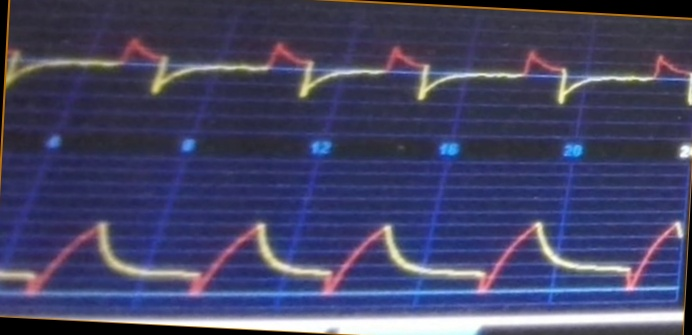Flow: (9, 29, 688, 119)
Leakage Volume: (3, 204, 682, 306)
